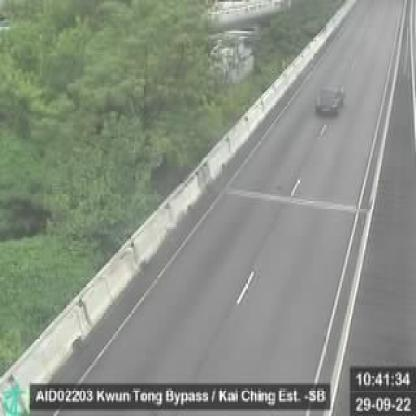Car: (309, 80, 355, 121)
